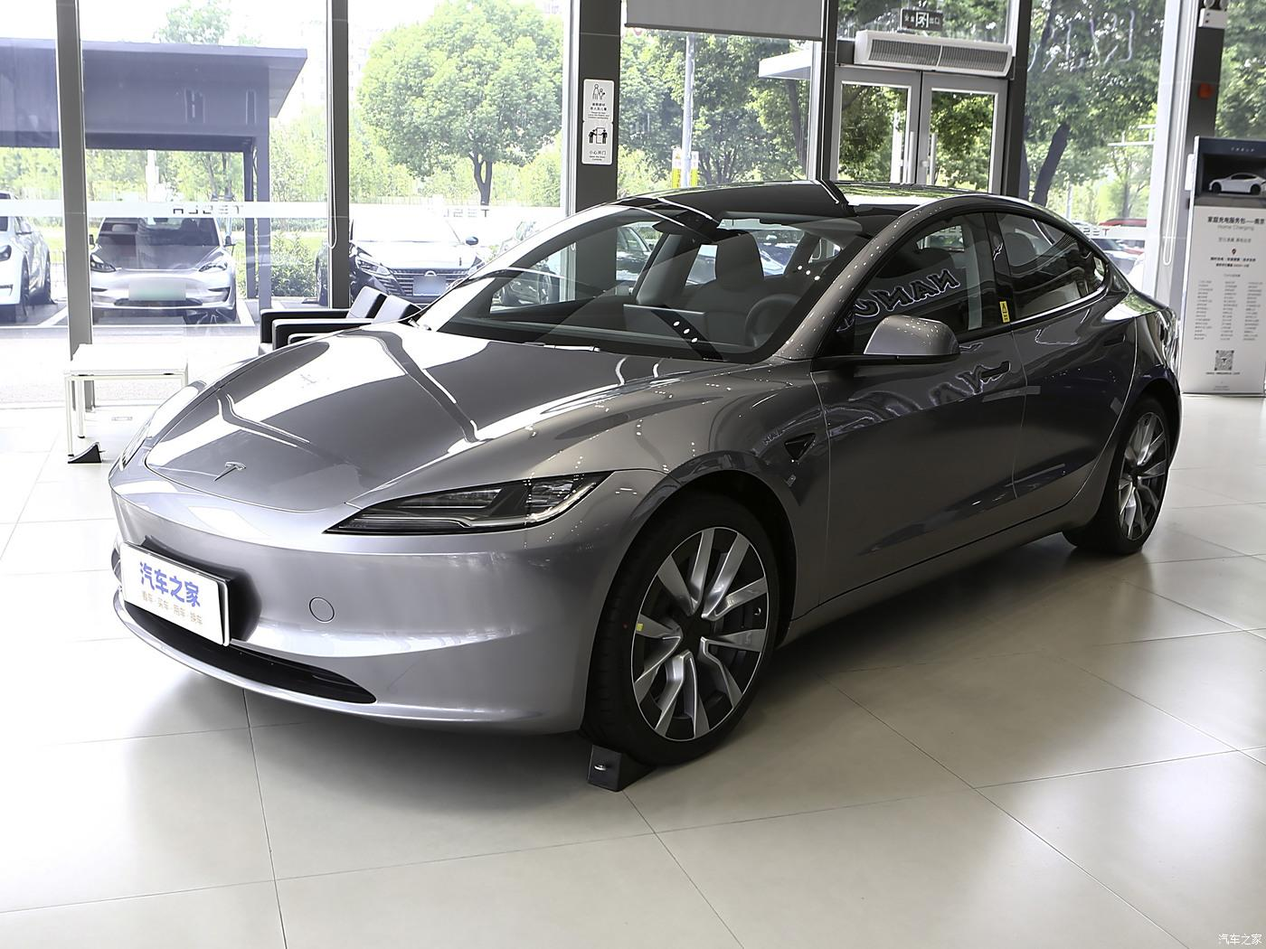Tesla: (213, 460, 249, 483)
